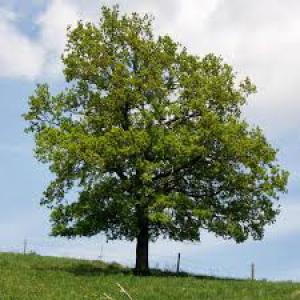Tree: (23, 4, 288, 277)
